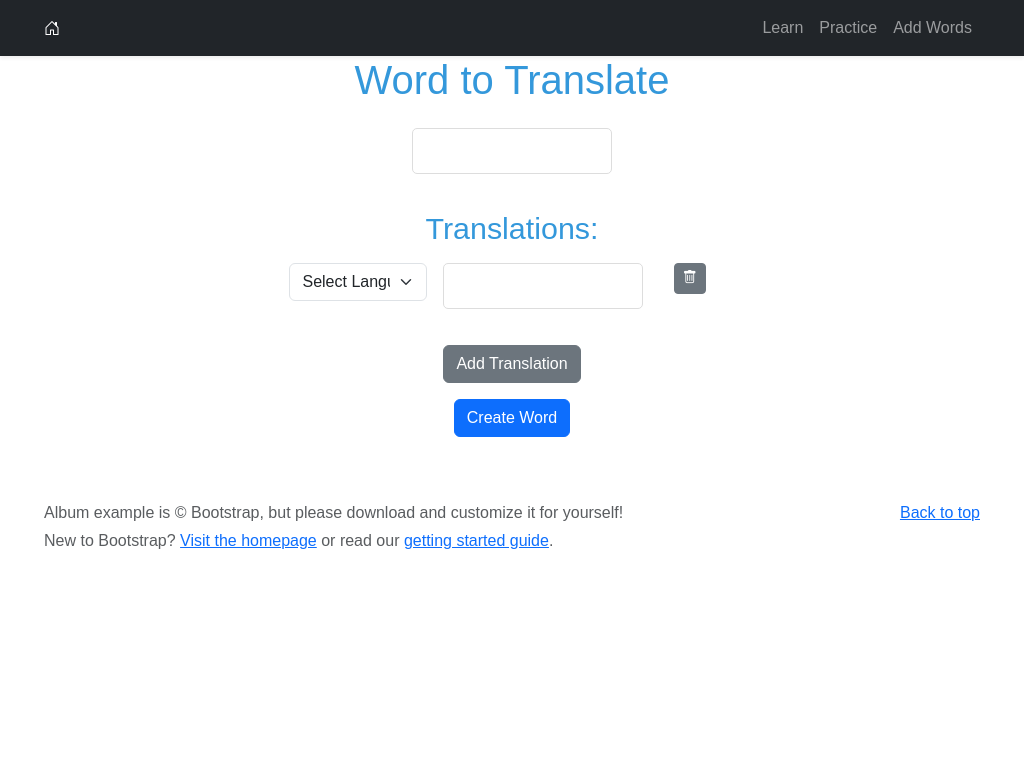
Test case: Add New Words component › should be able to add a new translation
Click the button "Add Translation": click(512, 364) [443, 345, 580, 383]
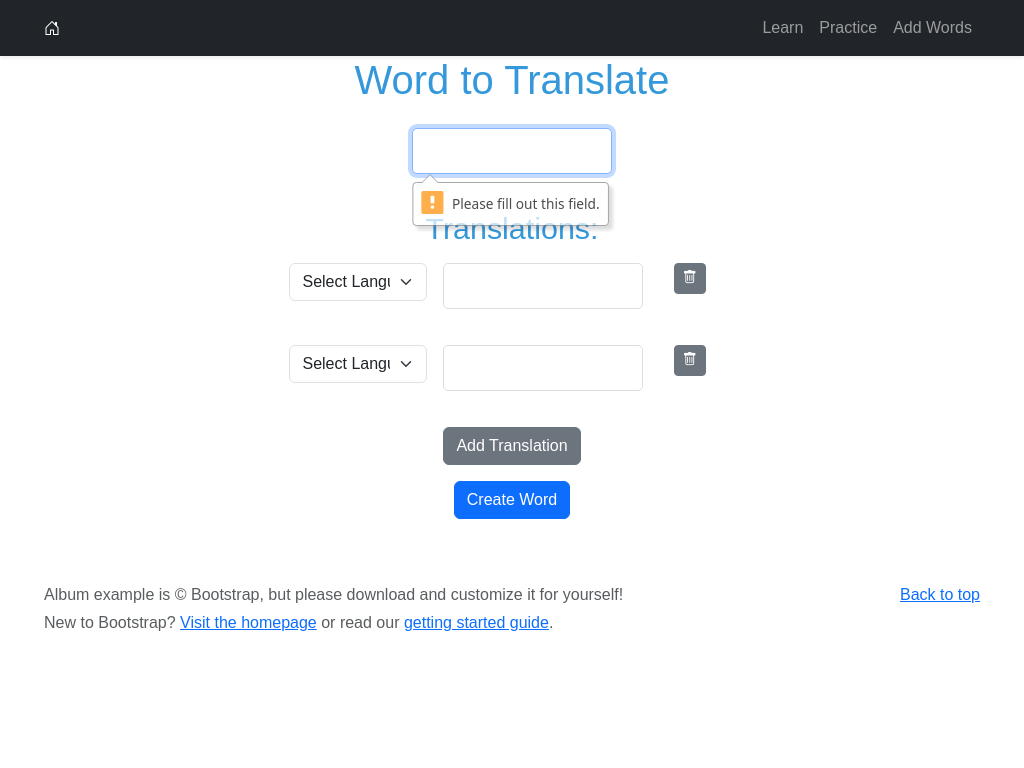
Check: the number of elements with class "translation-section" is 2, box [290, 262, 734, 328]; [290, 344, 734, 410]
